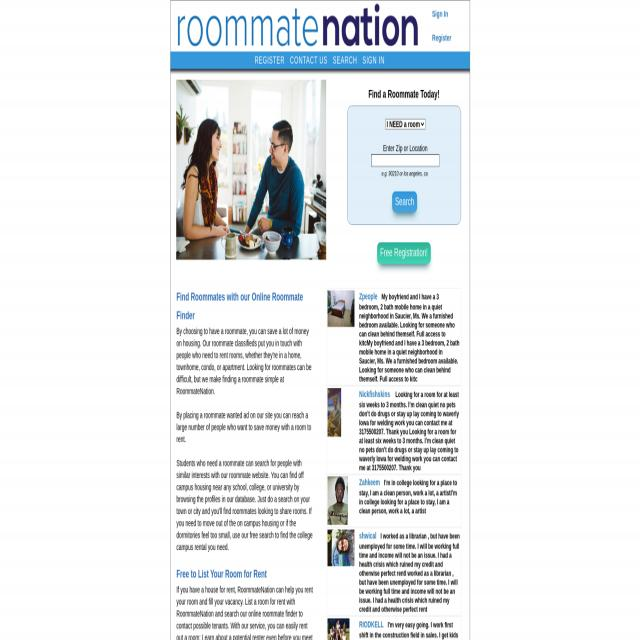button: (176, 80, 326, 260), (170, 0, 421, 50), (377, 243, 431, 263), (328, 290, 354, 327), (328, 477, 348, 525), (328, 530, 354, 566), (328, 388, 340, 437), (392, 191, 418, 213), (328, 618, 350, 640)
field: (371, 154, 439, 166), (385, 118, 425, 130)
